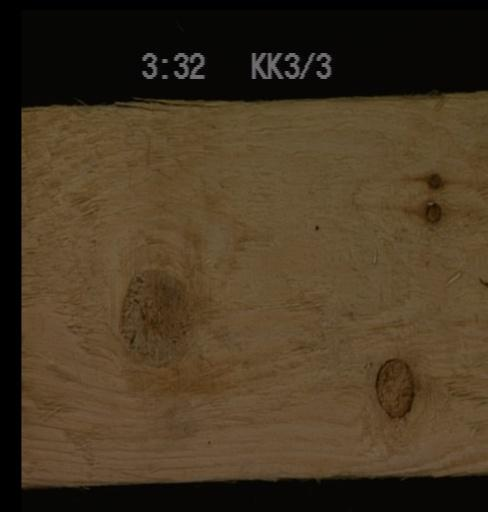dry_knot: (373, 355, 414, 418)
sound_knot: (116, 263, 199, 366)
split: (111, 98, 263, 116)
